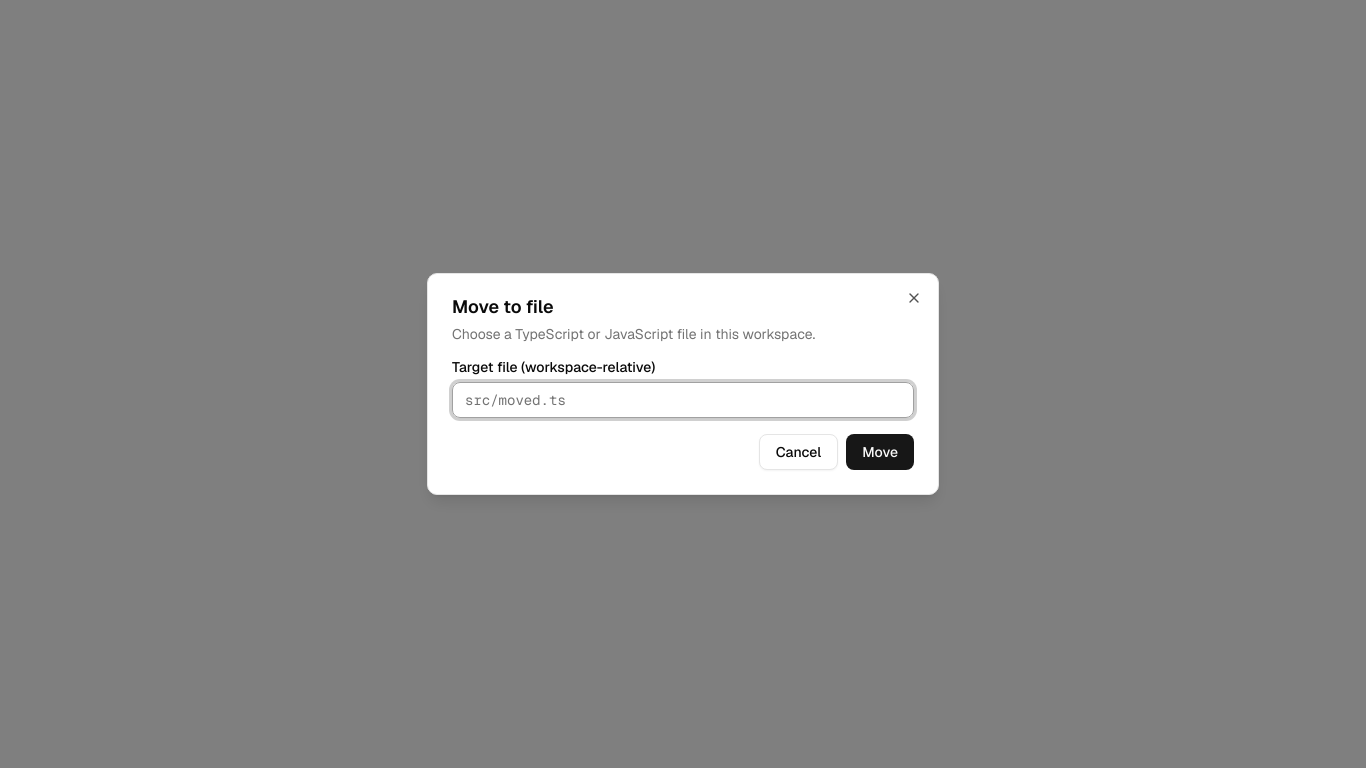
Test case: Move to file dialog › rejects target  with an accessible validation message
Click the button "Move". click: [880, 452]
box: 846,434 -> 914,470
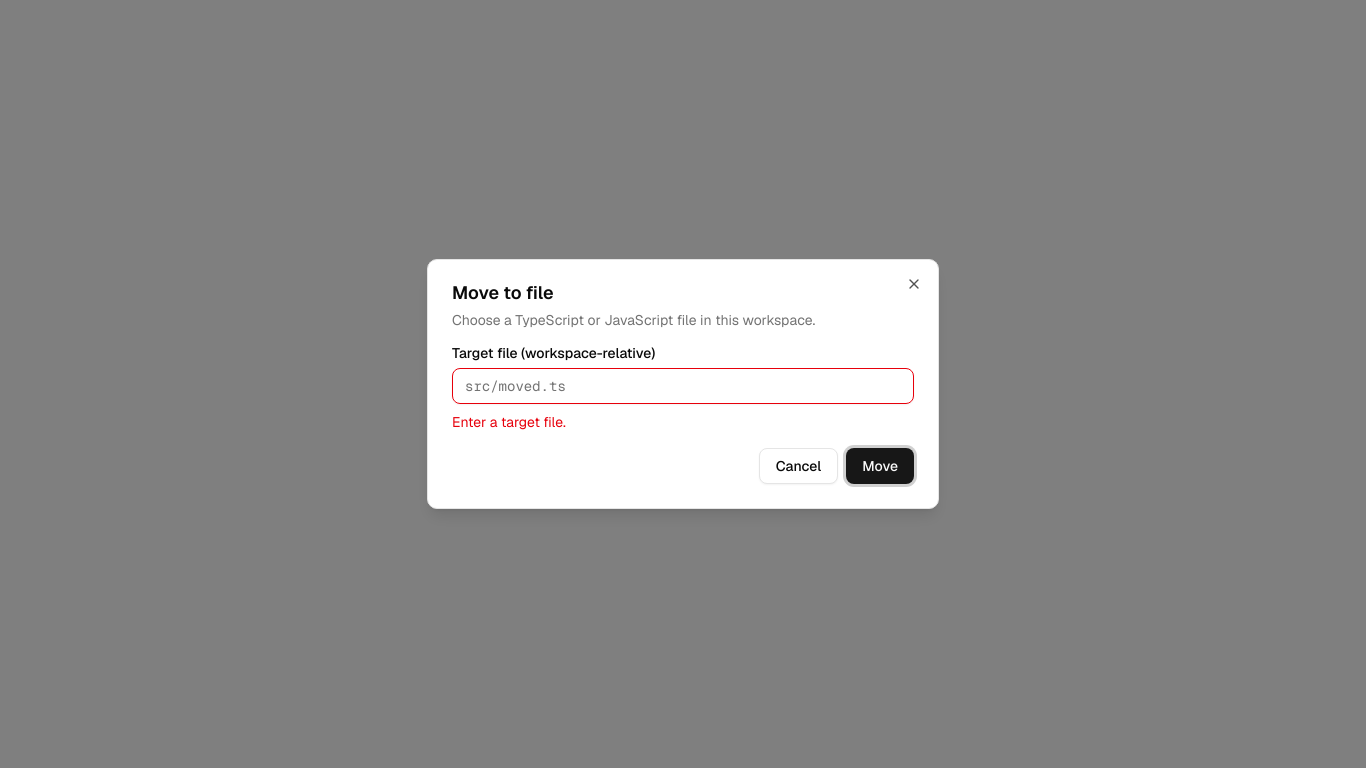
Now the message reads "Enter a target file.", box 452,413 -> 566,431
